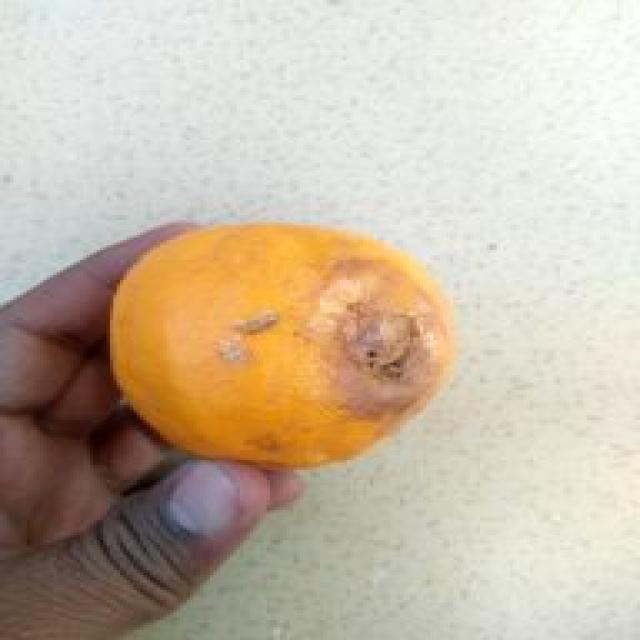Organik: (98, 216, 509, 480)
